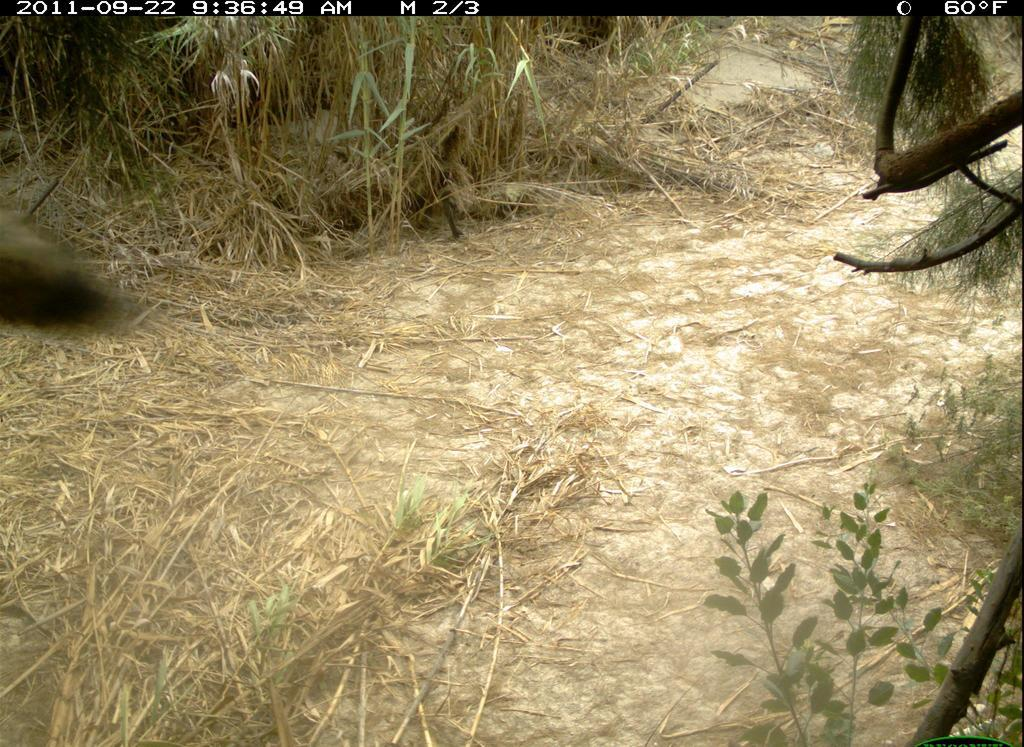coyote: (2, 196, 145, 372)
